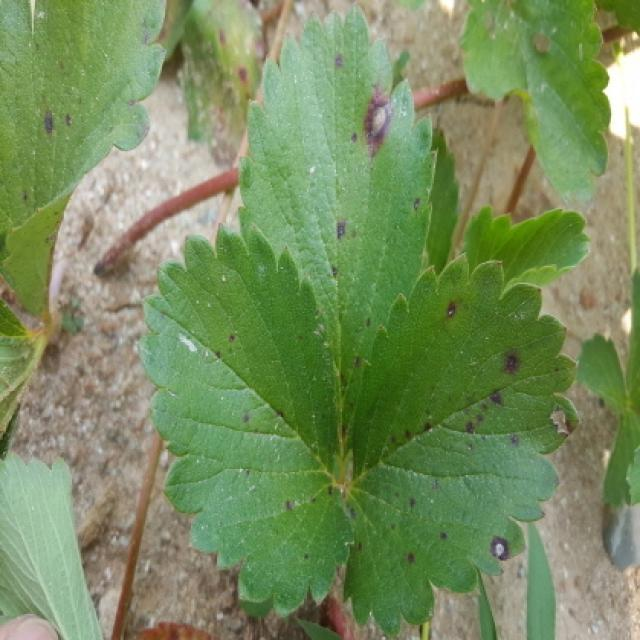Leaf Spot: (342, 253, 580, 635), (237, 4, 438, 435), (137, 223, 354, 622)
